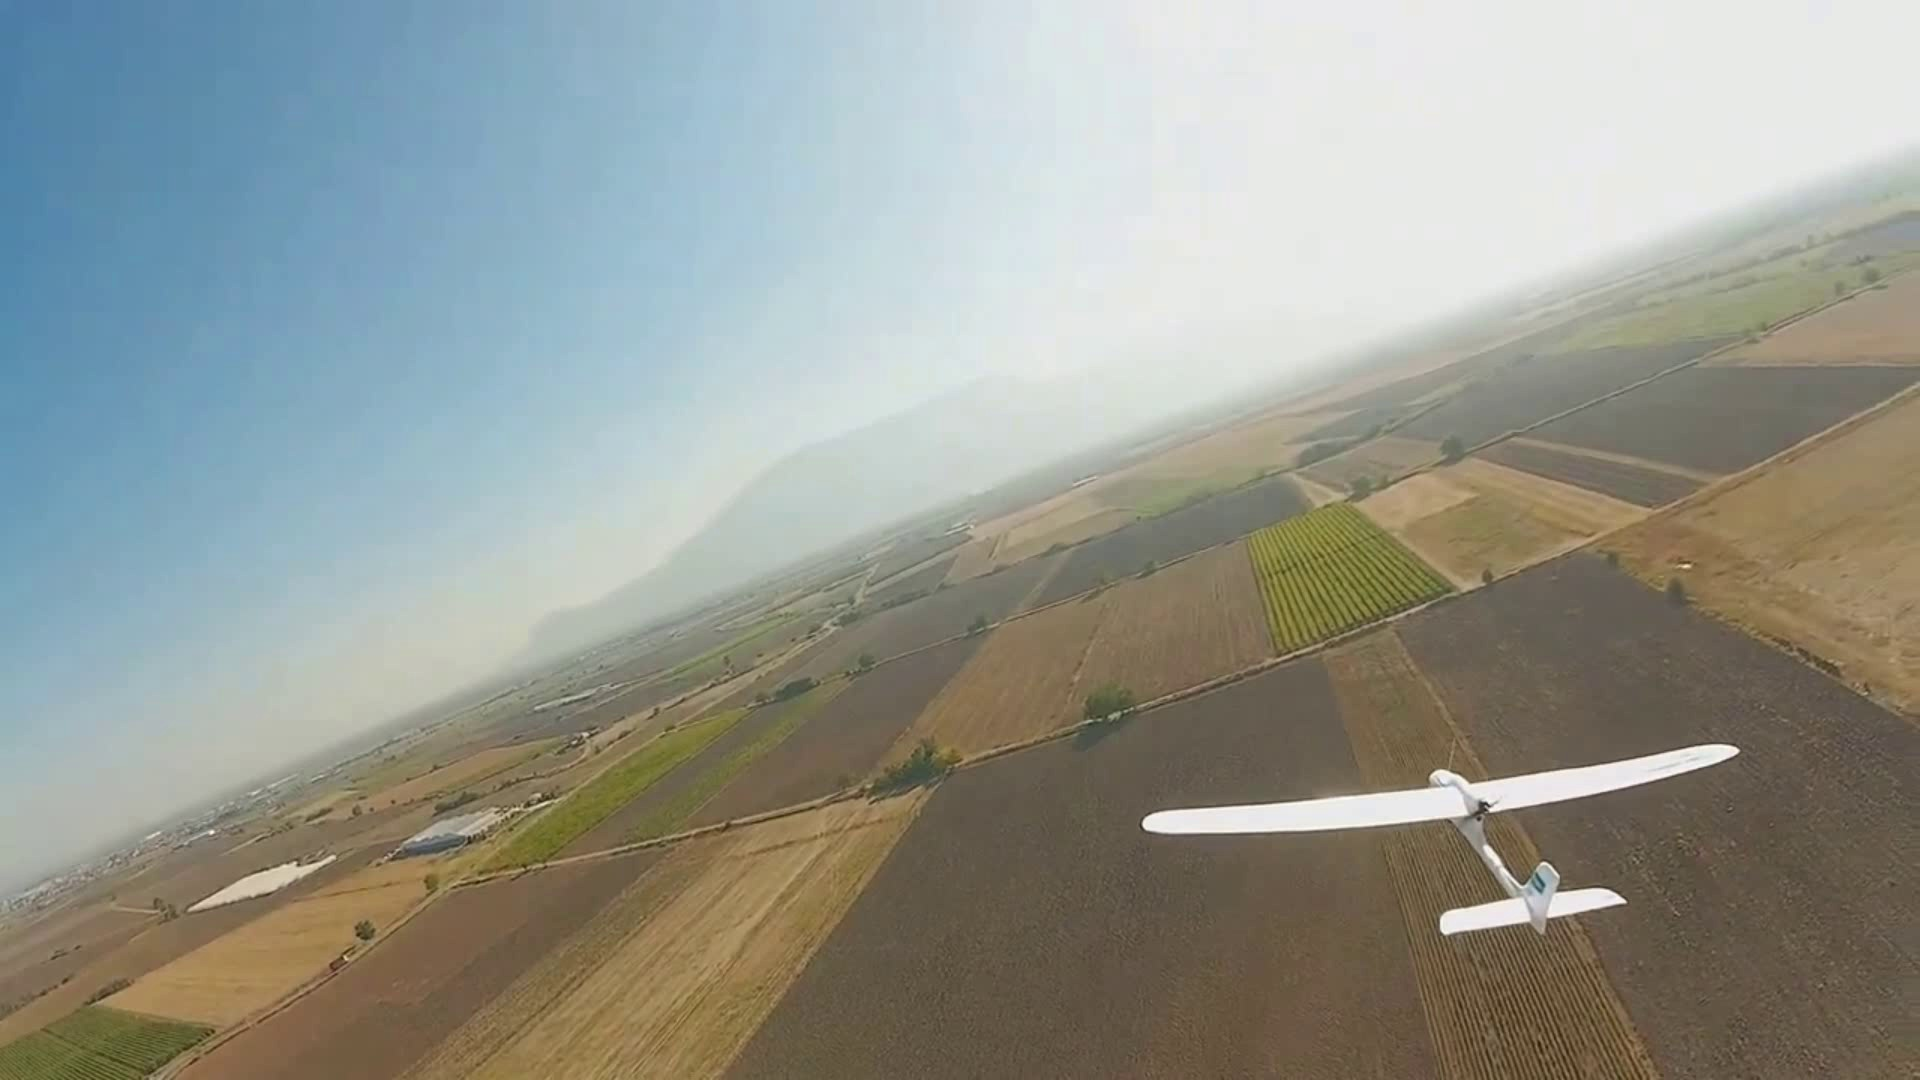airplane: (30, 130, 1920, 962)
